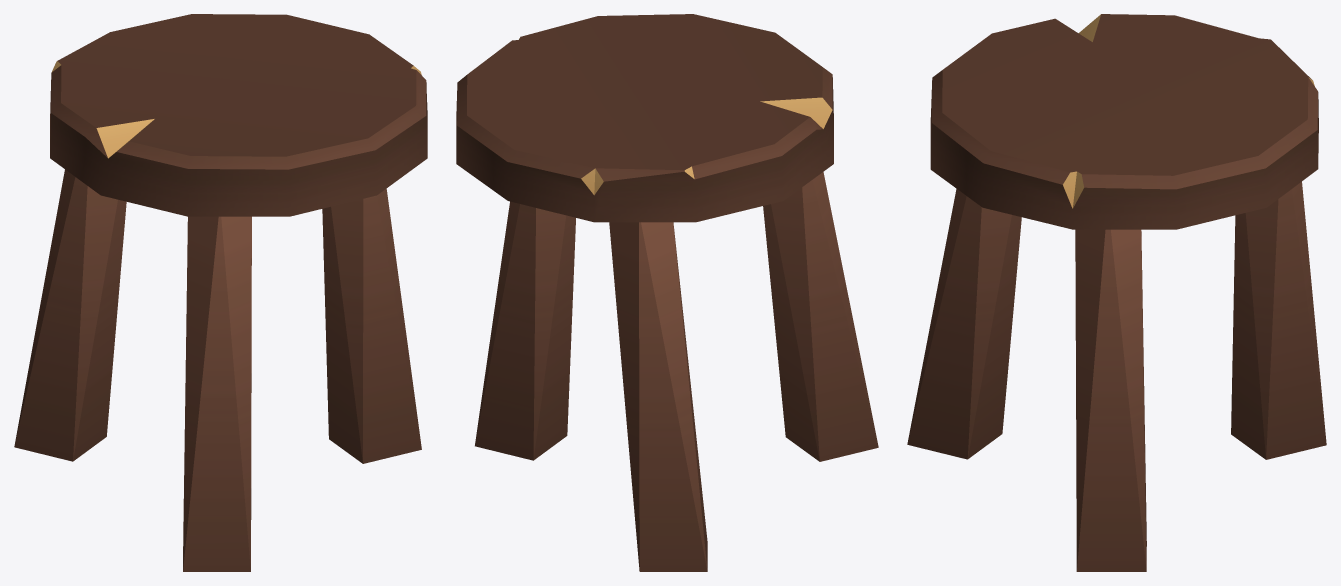
File: Stool_C.glb
The picture shows the model from 3 angles, left to right: view 1: azimuth 30°, elevation 25°; view 2: azimuth 150°, elevation 25°; view 3: azimuth 270°, elevation 25°; orthographic projection. The views are drawn at different scales.
Parts seen in each view (by area): view 1: Stool_C; view 2: Stool_C; view 3: Stool_C.
Boxes of the visible parts, x1,y1,x2,y2 form: Stool_C: [14, 14, 427, 571]; Stool_C: [456, 14, 878, 571]; Stool_C: [907, 14, 1326, 571].
Size of the model in its own units: 0.3302 by 0.3767 by 0.3565.
Materials: 1 (1 with a texture image).
